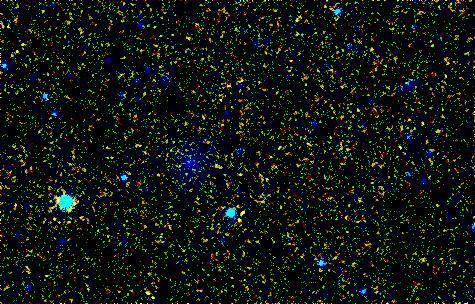star: (133, 284, 163, 304)
